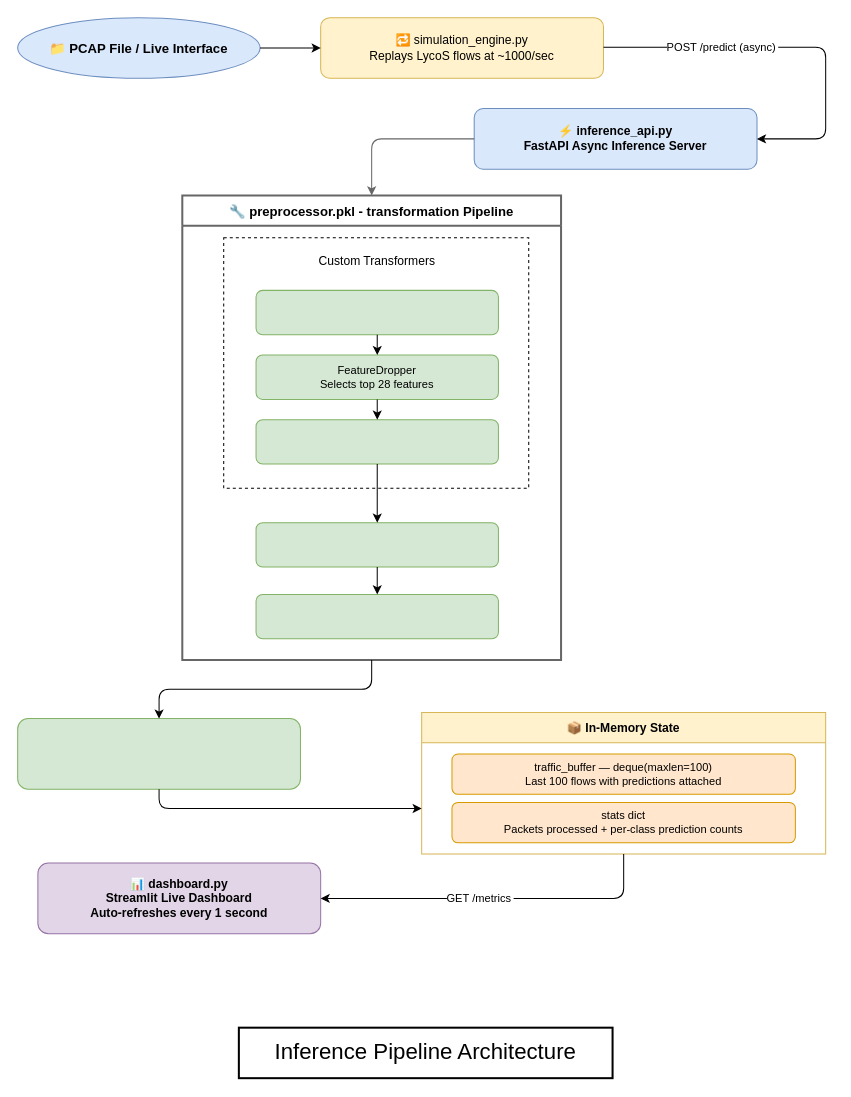
Image size: 851x1097. Some labels were removed from this diagram. The centre of each missing label's shape, as x and y in pixels:
"ColumnNameCleaner Normalizes column names" goes at point (376, 312).
"InfinityToNanConverter Handles ±Inf values" goes at point (376, 441).
"RobustScaler Outlier-resistant feature scaling" goes at point (376, 616).
"SimpleImputer Fills NaN values" goes at point (376, 544).
"🌲 model.pkl Trained XGBoost Classifier 7 Attack Classes" goes at point (158, 753).
